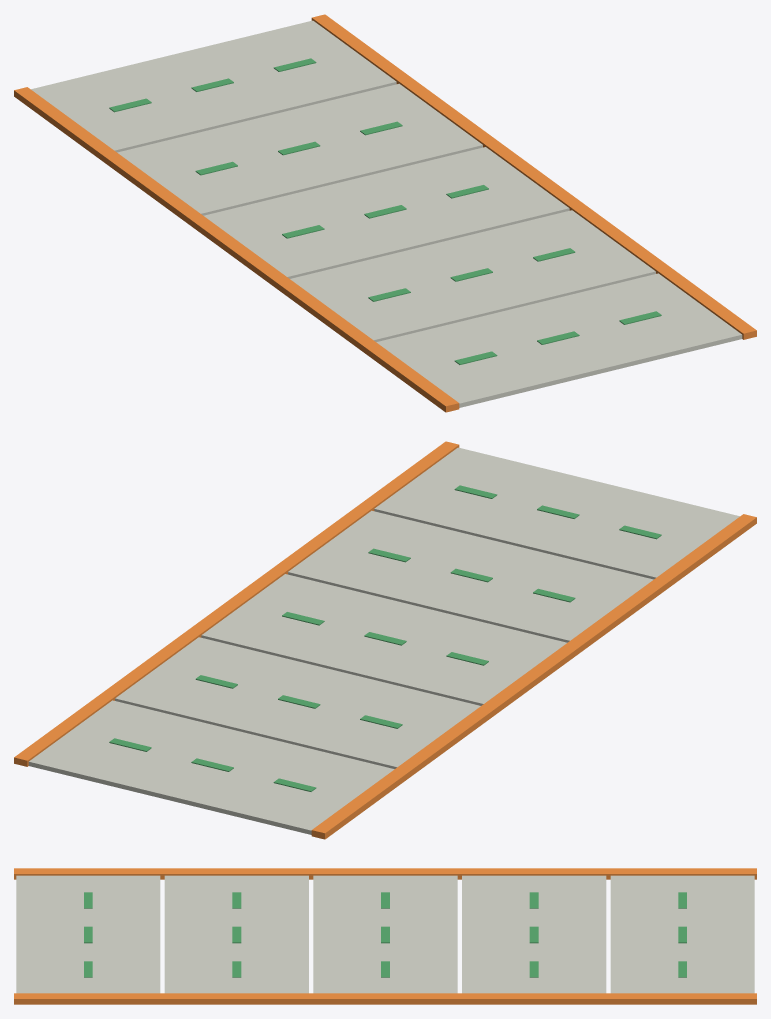
File: CYCLE-003.glb
3 views of the same model, one above another, from view 1: azimuth 30°, elevation 25°; view 2: azimuth 150°, elevation 25°; view 3: azimuth 270°, elevation 25° (orthographic). The views are drawn at different scales.
Visible parts, largest first — view 1: CYCLE-003; view 2: CYCLE-003; view 3: CYCLE-003.
Boxes of the visible parts, x1,y1,x2,y2 form: CYCLE-003: (14,14,756,412); CYCLE-003: (14,441,756,839); CYCLE-003: (14,868,756,1004).
Size of the model in its own units: 4.16 by 0.08 by 10.
